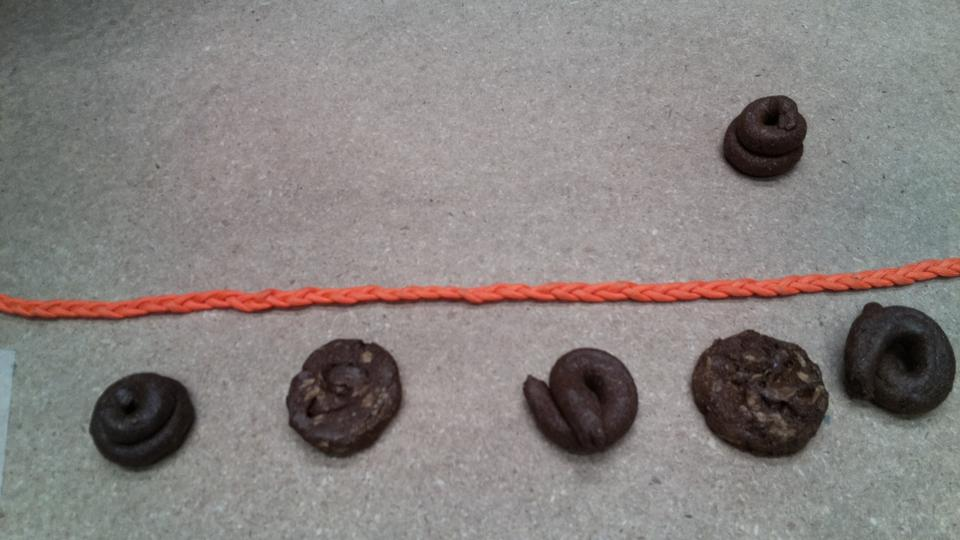poop: (684, 321, 834, 459), (282, 332, 407, 460), (521, 340, 645, 458), (842, 300, 960, 422), (88, 368, 204, 470), (719, 91, 816, 188)
rope: (3, 275, 840, 326), (715, 261, 960, 300)
